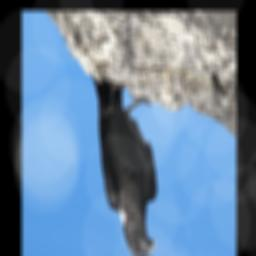Crow: (90, 71, 159, 256)
